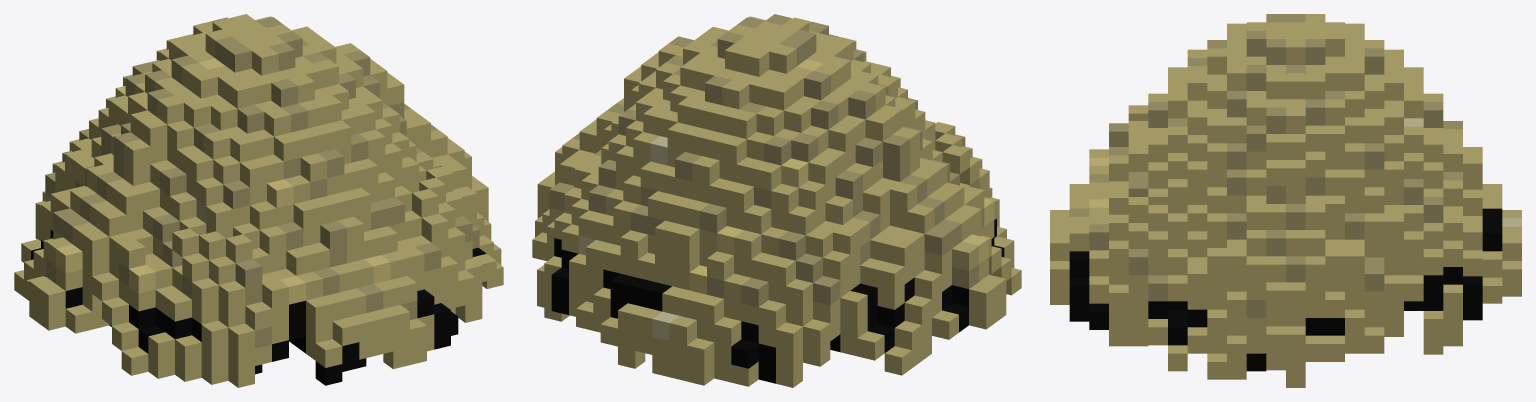
Rendered from oeufterhead.glb.
3 renders of one model, left to right at view 1: azimuth 30°, elevation 25°; view 2: azimuth 150°, elevation 25°; view 3: azimuth 270°, elevation 25°, orthographic.
Parts seen in each view (by area): view 1: Layer.2; view 2: Layer.2; view 3: Layer.2.
Part boxes in pixels (x1,y1,x2,y2): Layer.2: (14, 14, 503, 387); Layer.2: (532, 14, 1021, 387); Layer.2: (1050, 14, 1521, 387).
Bounding box in the file's own units: 1.12 × 0.602 × 1.03.
1 material, 1 textured.
